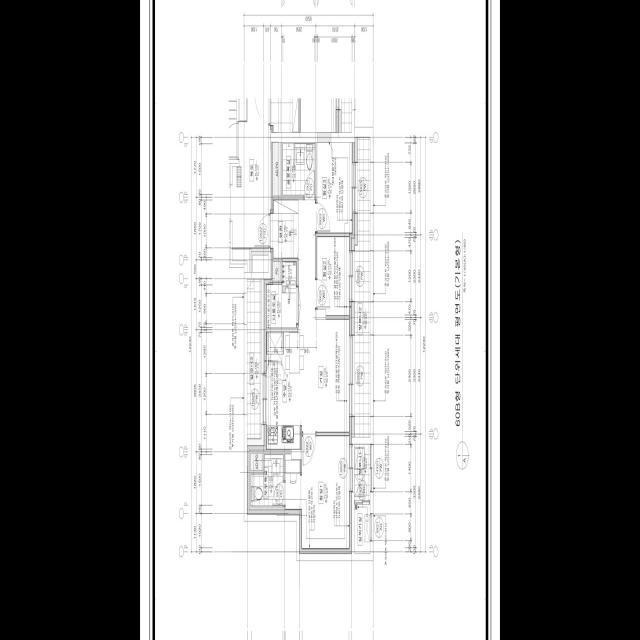background: (140, 0, 500, 640)
space_balconi: (353, 137, 370, 437), (247, 278, 263, 438), (355, 444, 370, 500)
space_bedroom: (285, 435, 352, 553), (317, 142, 355, 232), (317, 232, 355, 315)
space_elevator_hall: (229, 98, 268, 272)
space_front: (270, 199, 298, 258)
space_kitchen: (264, 328, 300, 449)
space_living_room: (298, 199, 352, 435)
space_multipurpose_space: (264, 261, 297, 328)
space_other: (271, 142, 281, 199), (271, 258, 281, 280), (251, 453, 263, 470)
space_outdoor_room: (355, 504, 370, 553)
space_toilet: (282, 142, 315, 195), (251, 453, 283, 506)
